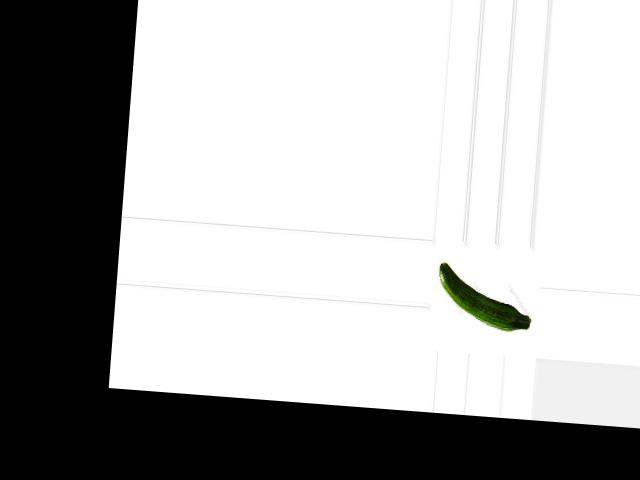cucumber: (435, 261, 535, 332)
